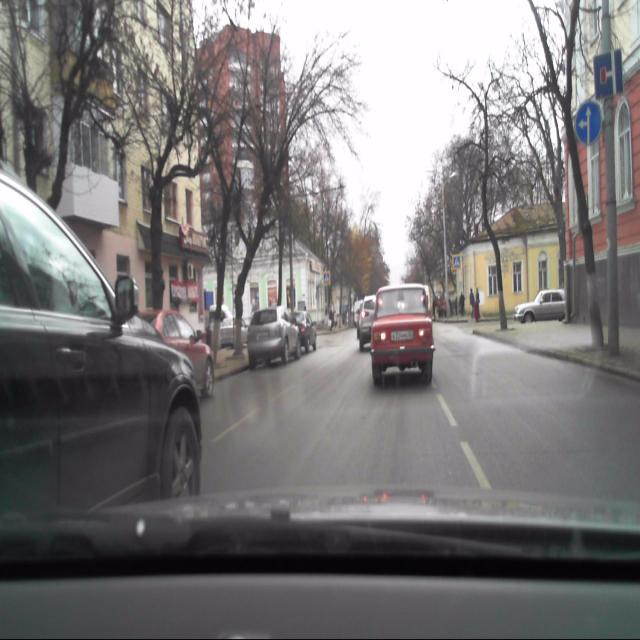road sign: (594, 47, 624, 98), (451, 251, 460, 268), (324, 267, 332, 283)
